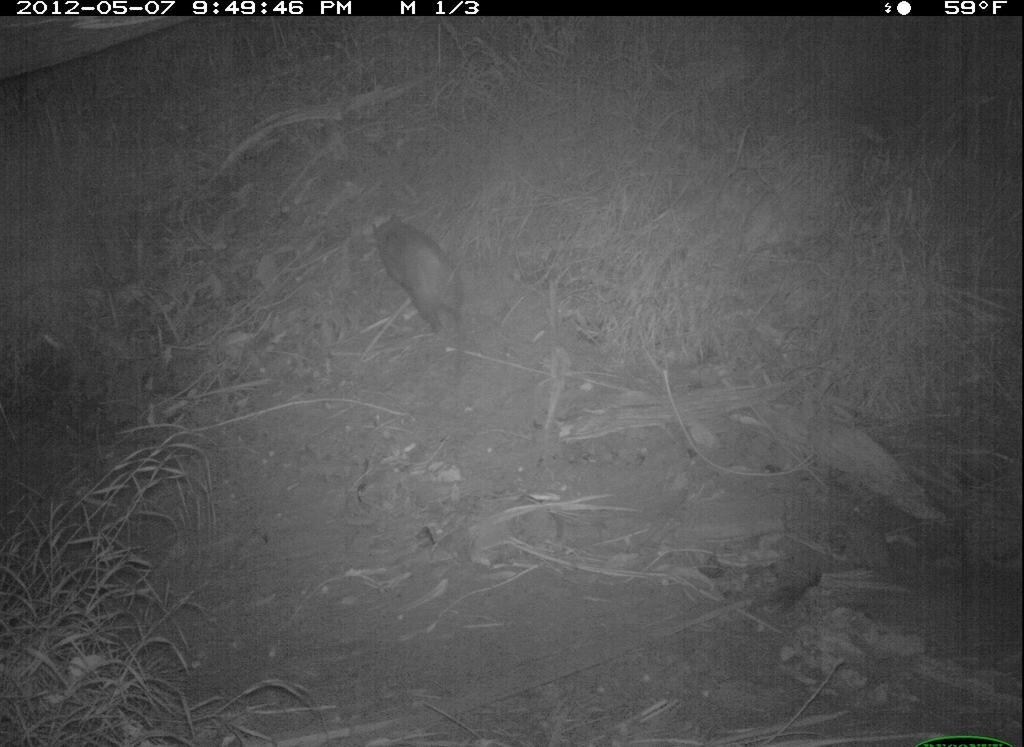opossum: (356, 194, 496, 401)
